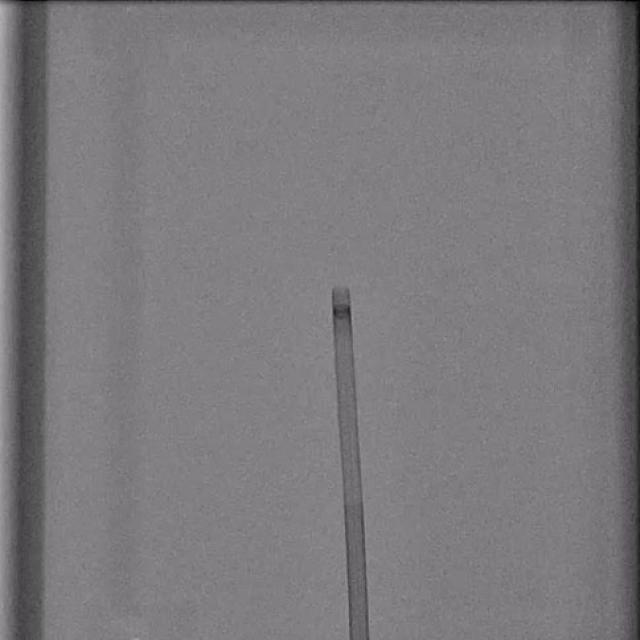bend: (345, 496, 362, 505)
entry: (350, 636, 369, 639)
marker: (332, 305, 352, 320)
tip: (333, 288, 349, 294)
